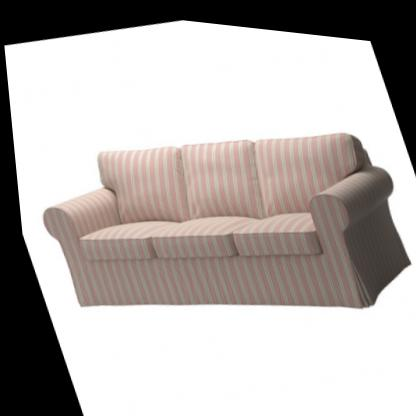Sofa: (9, 63, 416, 382)
